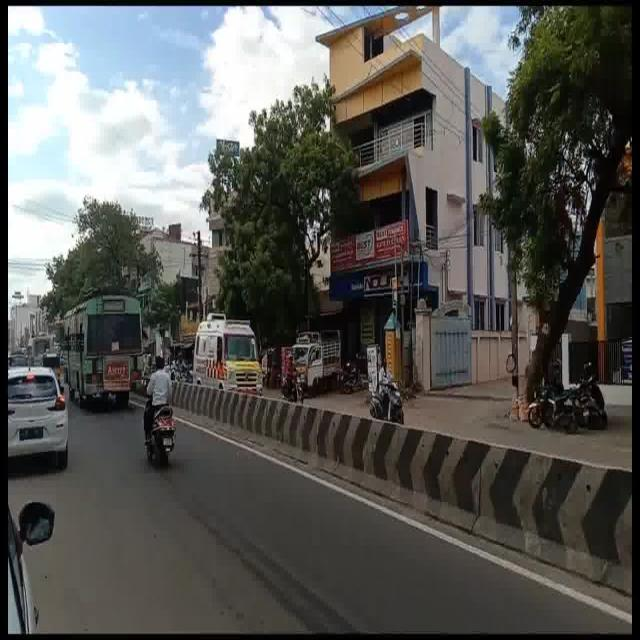ambulance: (186, 313, 265, 389)
